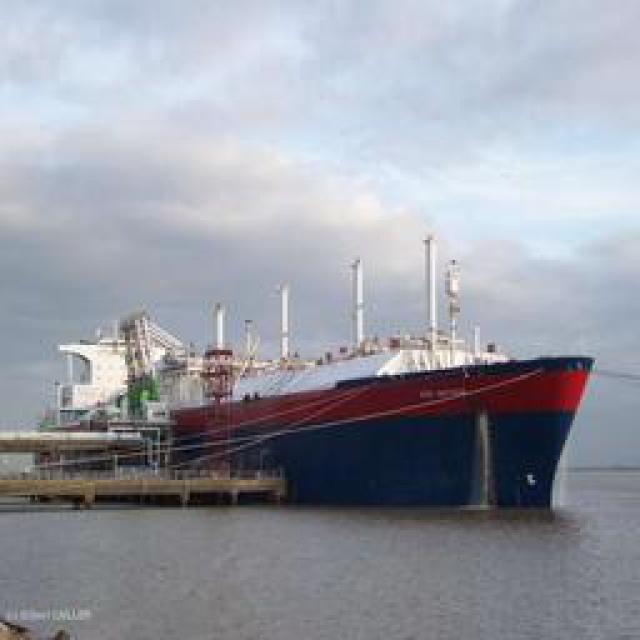Ship: (106, 329, 604, 509)
